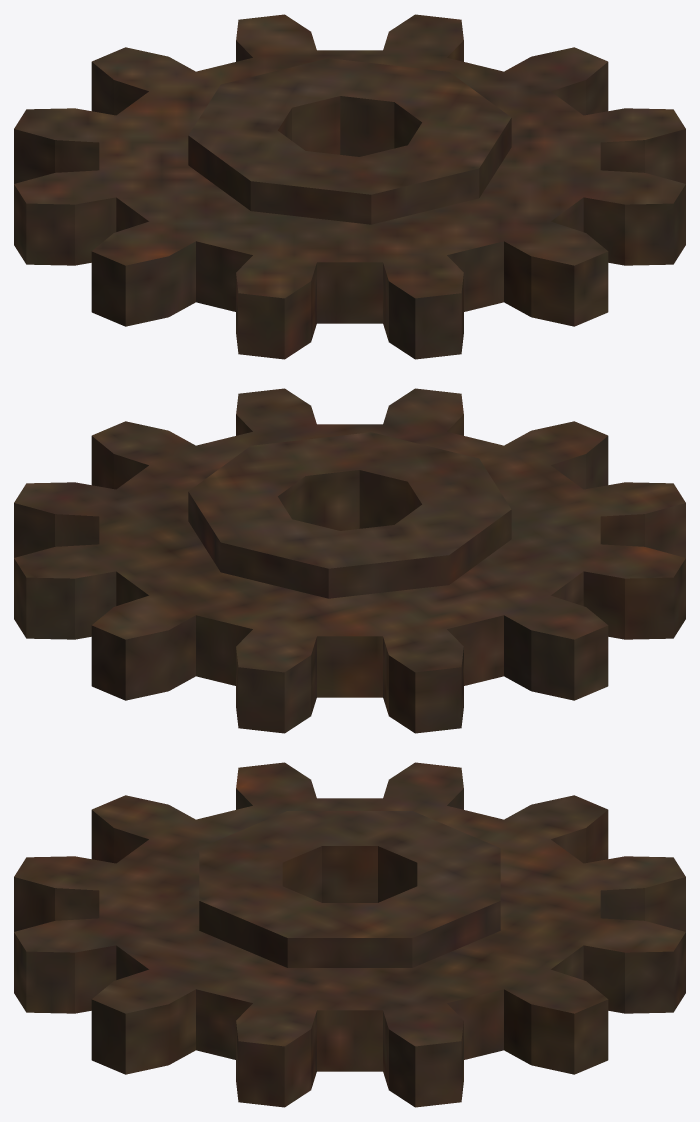
The model's file is gear_mx_4.obj.
The picture shows the model from 3 angles, top to bottom: view 1: azimuth 30°, elevation 25°; view 2: azimuth 150°, elevation 25°; view 3: azimuth 270°, elevation 25°; orthographic projection.
Parts seen in each view (by area): view 1: gear_mx_4; view 2: gear_mx_4; view 3: gear_mx_4.
Boxes of the visible parts, box(x1,y1,x2,y2) form: gear_mx_4: box(14, 14, 685, 359); gear_mx_4: box(14, 388, 685, 733); gear_mx_4: box(14, 762, 685, 1107).
Size of the model in its own units: 0.1301 by 0.0274 by 0.1301.
